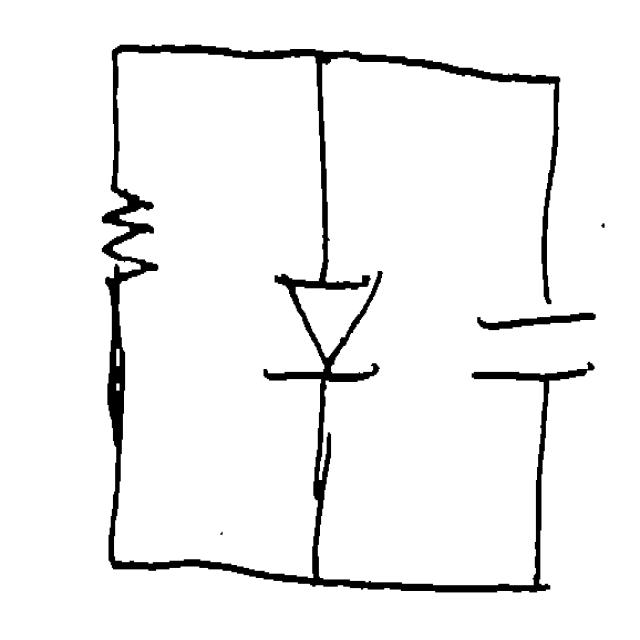capacitor: (466, 297, 613, 430)
diode: (245, 256, 393, 408)
resistor: (87, 167, 165, 306)
